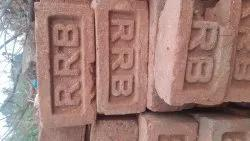brick: (169, 0, 242, 106), (36, 4, 95, 127), (96, 1, 149, 114)
